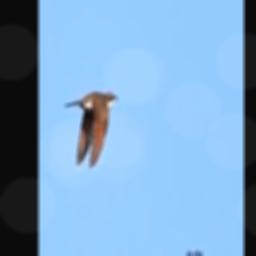Cuckoo: (63, 90, 117, 166)
